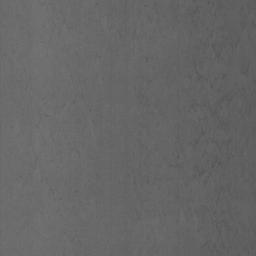Silk spot: (169, 60, 256, 184), (188, 183, 256, 256), (188, 0, 256, 64), (241, 62, 249, 77)
